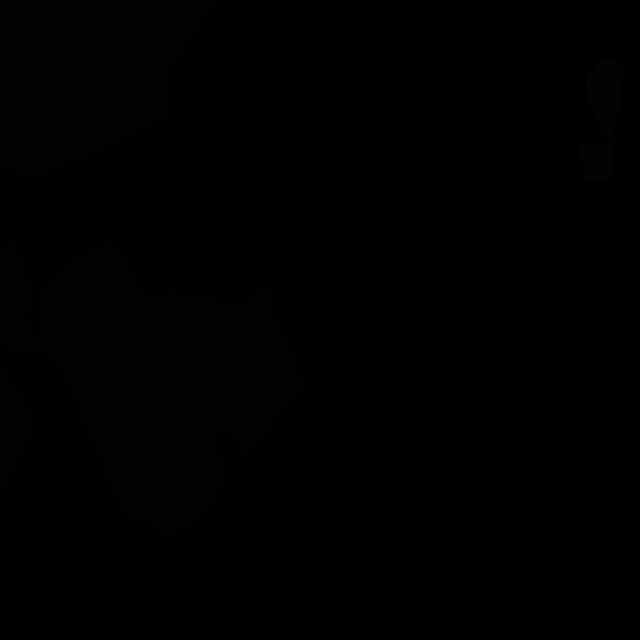cardboard: (33, 239, 304, 542), (0, 237, 43, 361), (0, 359, 32, 497)
soft_plastic: (586, 57, 624, 144), (578, 142, 613, 183)
